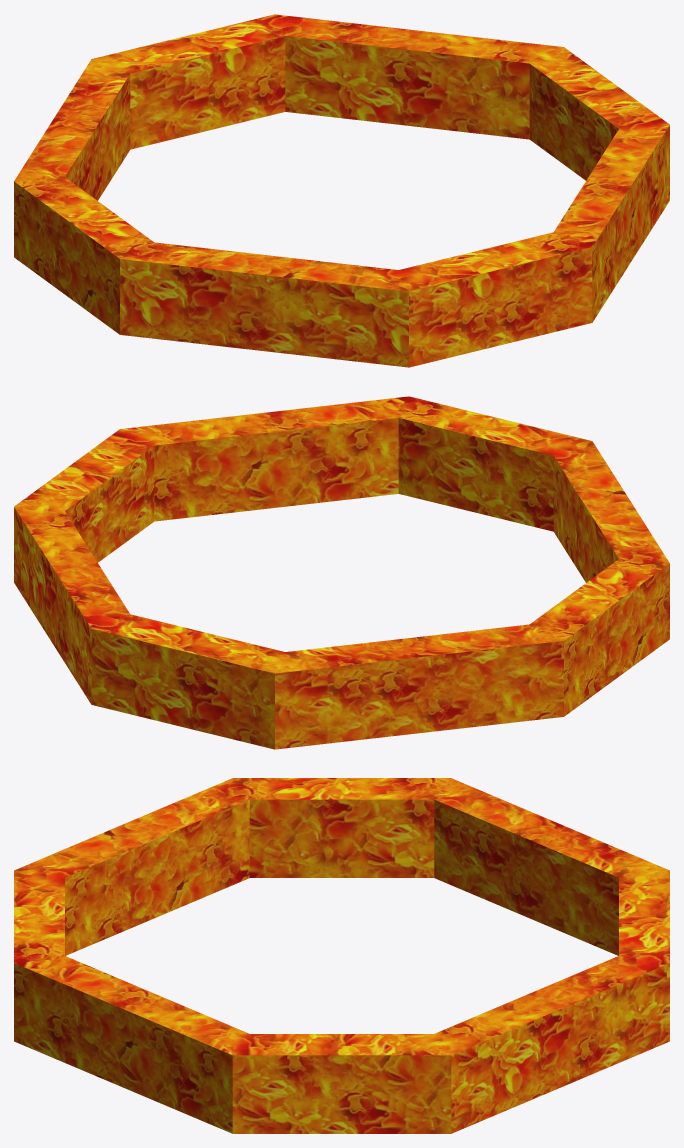
The picture shows the model from 3 angles, top to bottom: view 1: azimuth 30°, elevation 25°; view 2: azimuth 150°, elevation 25°; view 3: azimuth 270°, elevation 25°; orthographic projection. The views are drawn at different scales.
Visible parts, largest first — view 1: hexagon; view 2: hexagon; view 3: hexagon.
Boxes of the visible parts, x1,y1,x2,y2 form: hexagon: (14, 14, 669, 367); hexagon: (14, 396, 669, 749); hexagon: (14, 778, 669, 1133).
Bounding box in the file's own units: 75.74 × 10 × 75.74.
Materials: 1 (1 with a texture image).
